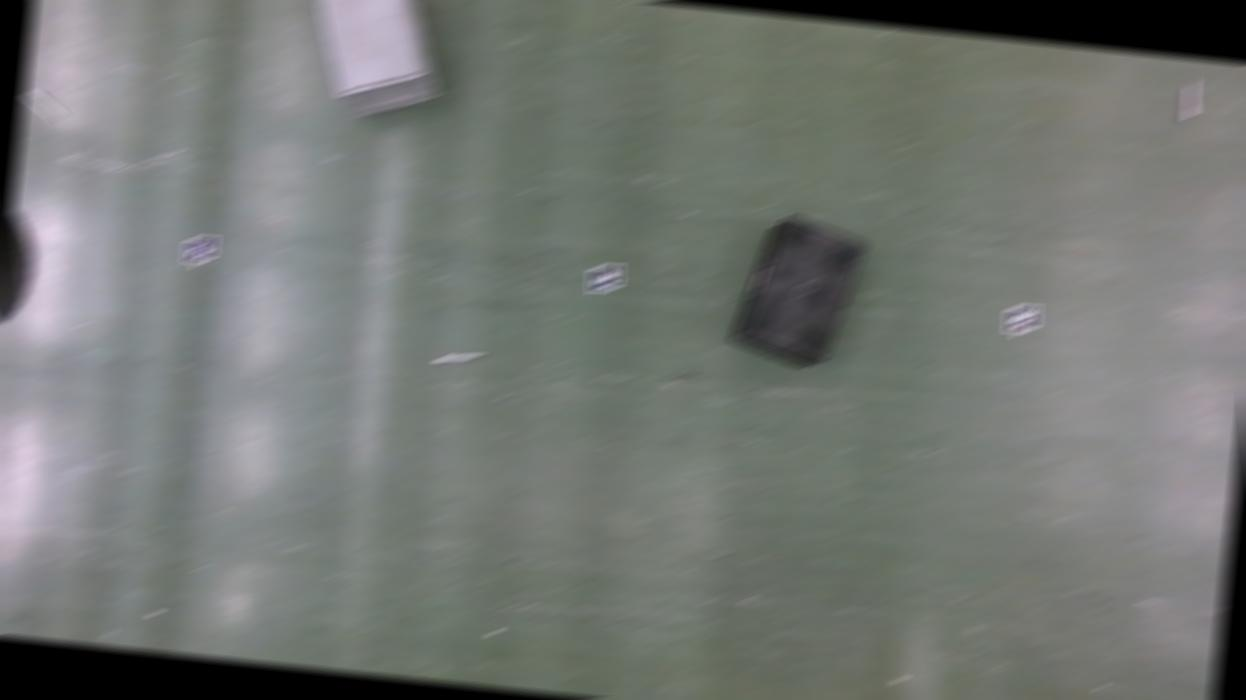probes: (20, 93, 66, 122), (1182, 82, 1200, 118), (436, 353, 480, 366)
rako: (726, 214, 870, 372), (299, 1, 454, 126)
